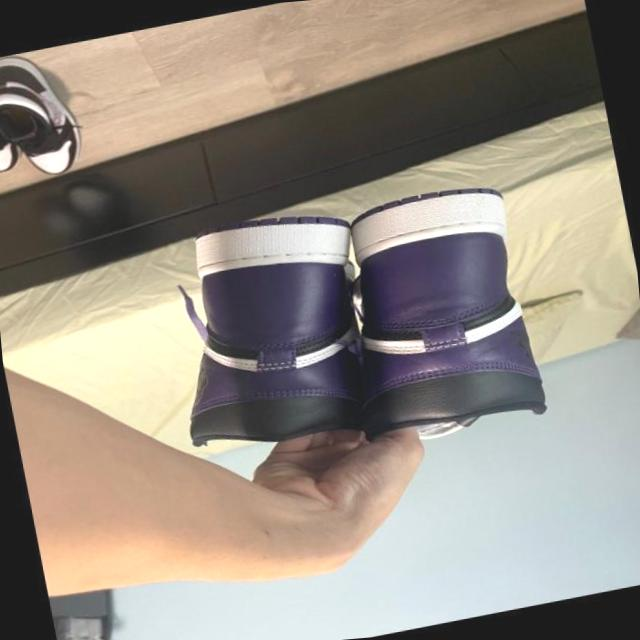nike_original_jordan: (142, 194, 400, 466), (304, 172, 550, 455)
